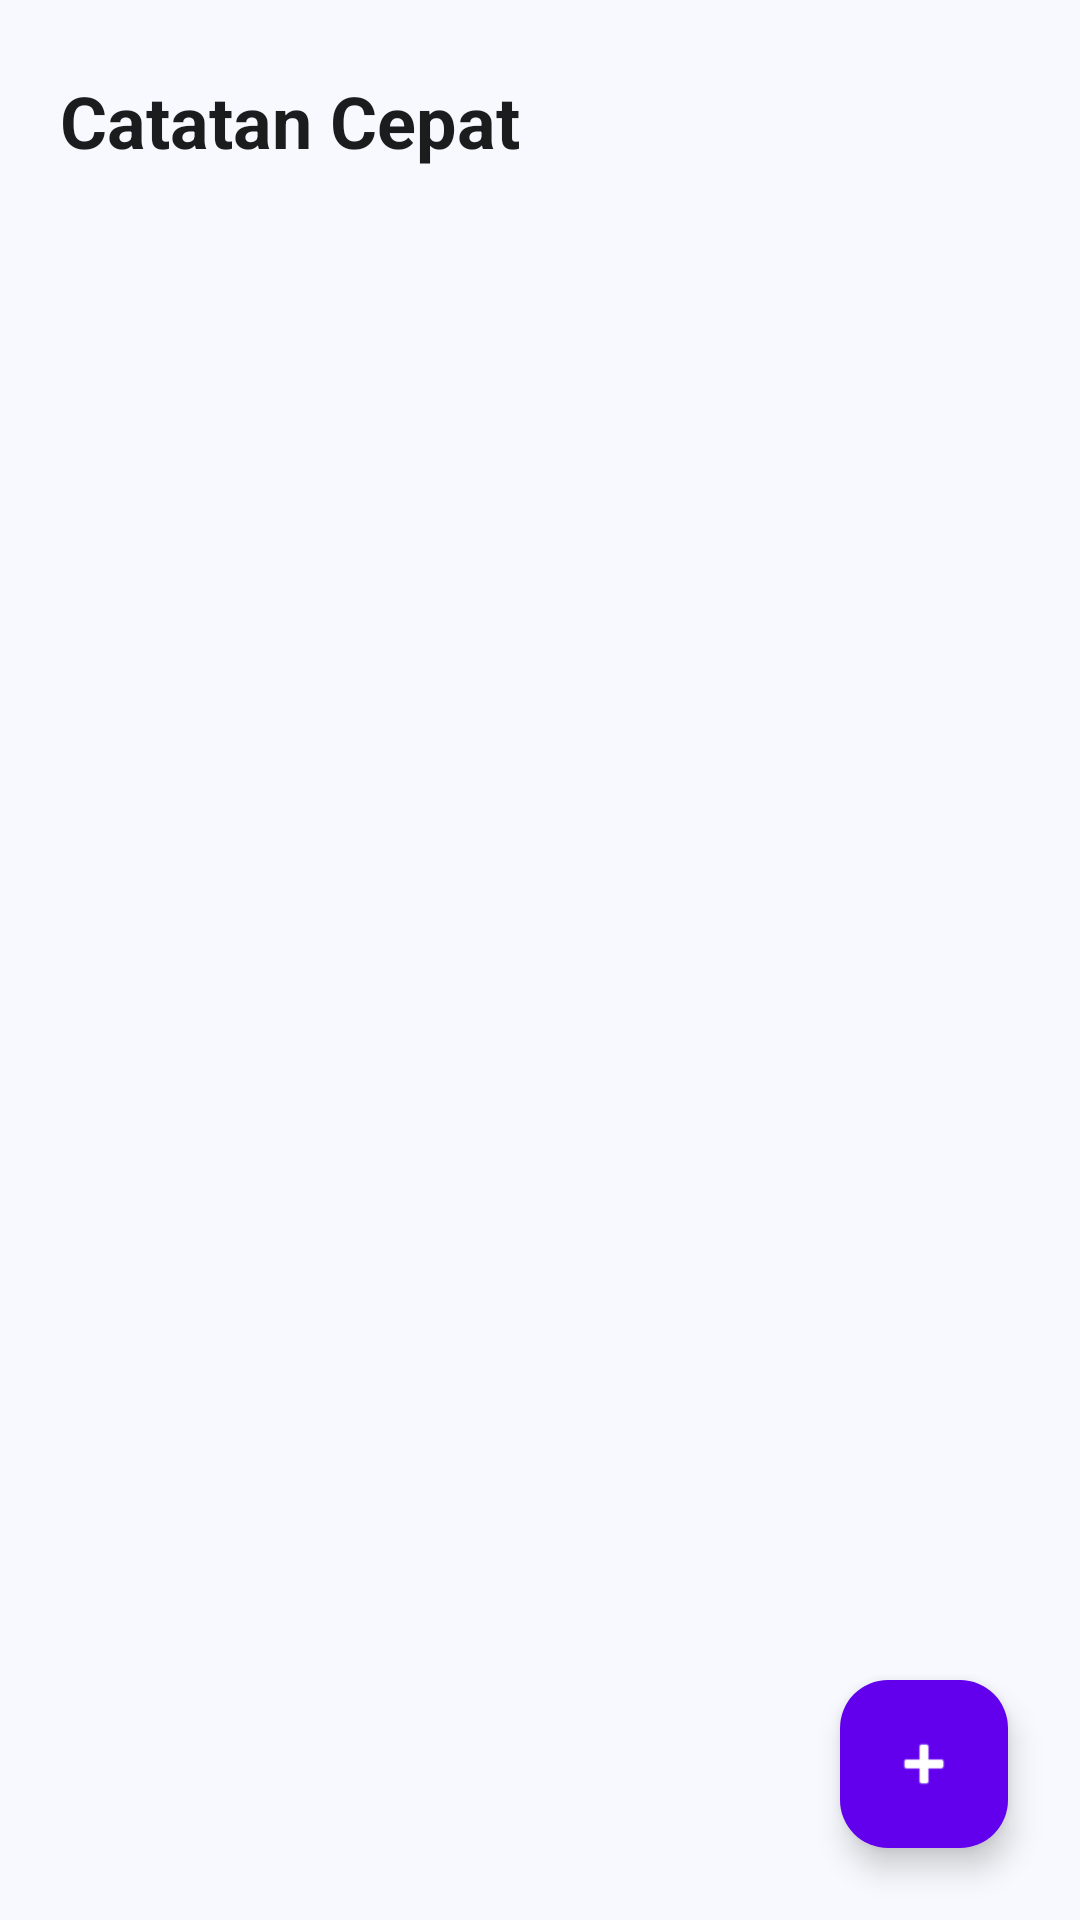

Named icons in this screenshot (1080 × 1920) and their bounding boxes, region(x1, y1, x2, y2):
Tambah Catatan: region(840, 1680, 1008, 1848)
